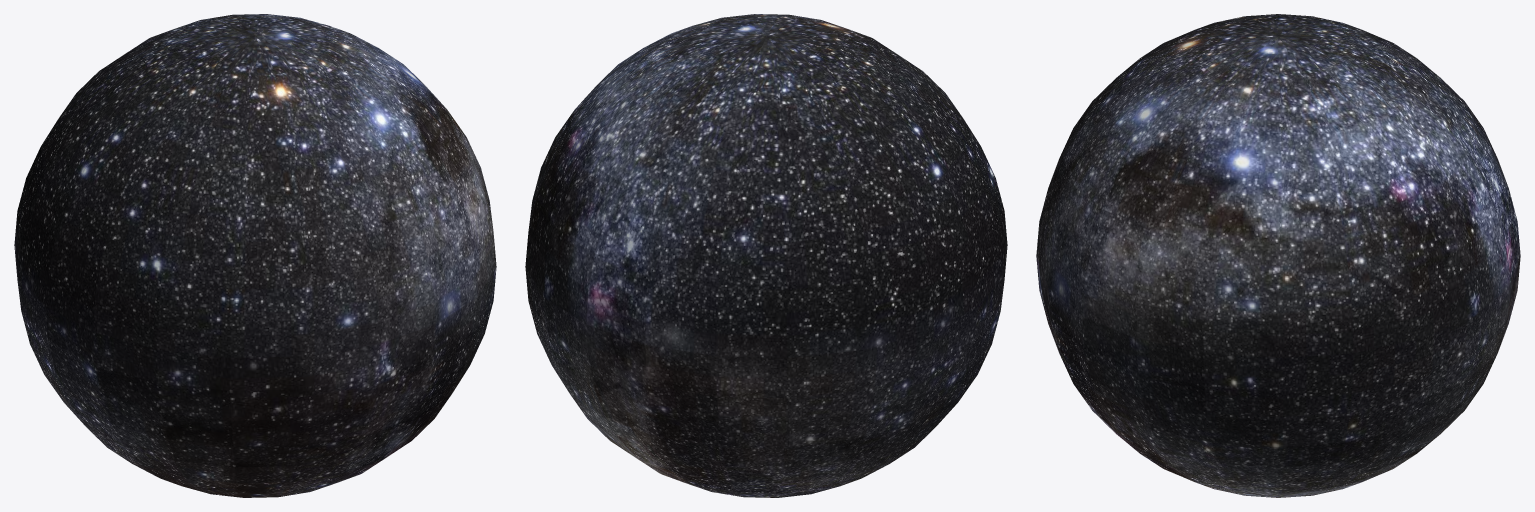
Rendered from spaceinvaders.obj.
3 views of the same model, side by side, from view 1: azimuth 30°, elevation 25°; view 2: azimuth 150°, elevation 25°; view 3: azimuth 270°, elevation 25° (orthographic).
Parts seen in each view (by area): view 1: space_spacesphere; view 2: space_spacesphere; view 3: space_spacesphere.
Part boxes in pixels (left/top/right/bottom): space_spacesphere: left=14, top=14, right=496, bottom=497; space_spacesphere: left=525, top=14, right=1007, bottom=497; space_spacesphere: left=1036, top=14, right=1520, bottom=497.
Bounding box in the file's own units: 200 × 200 × 200.
